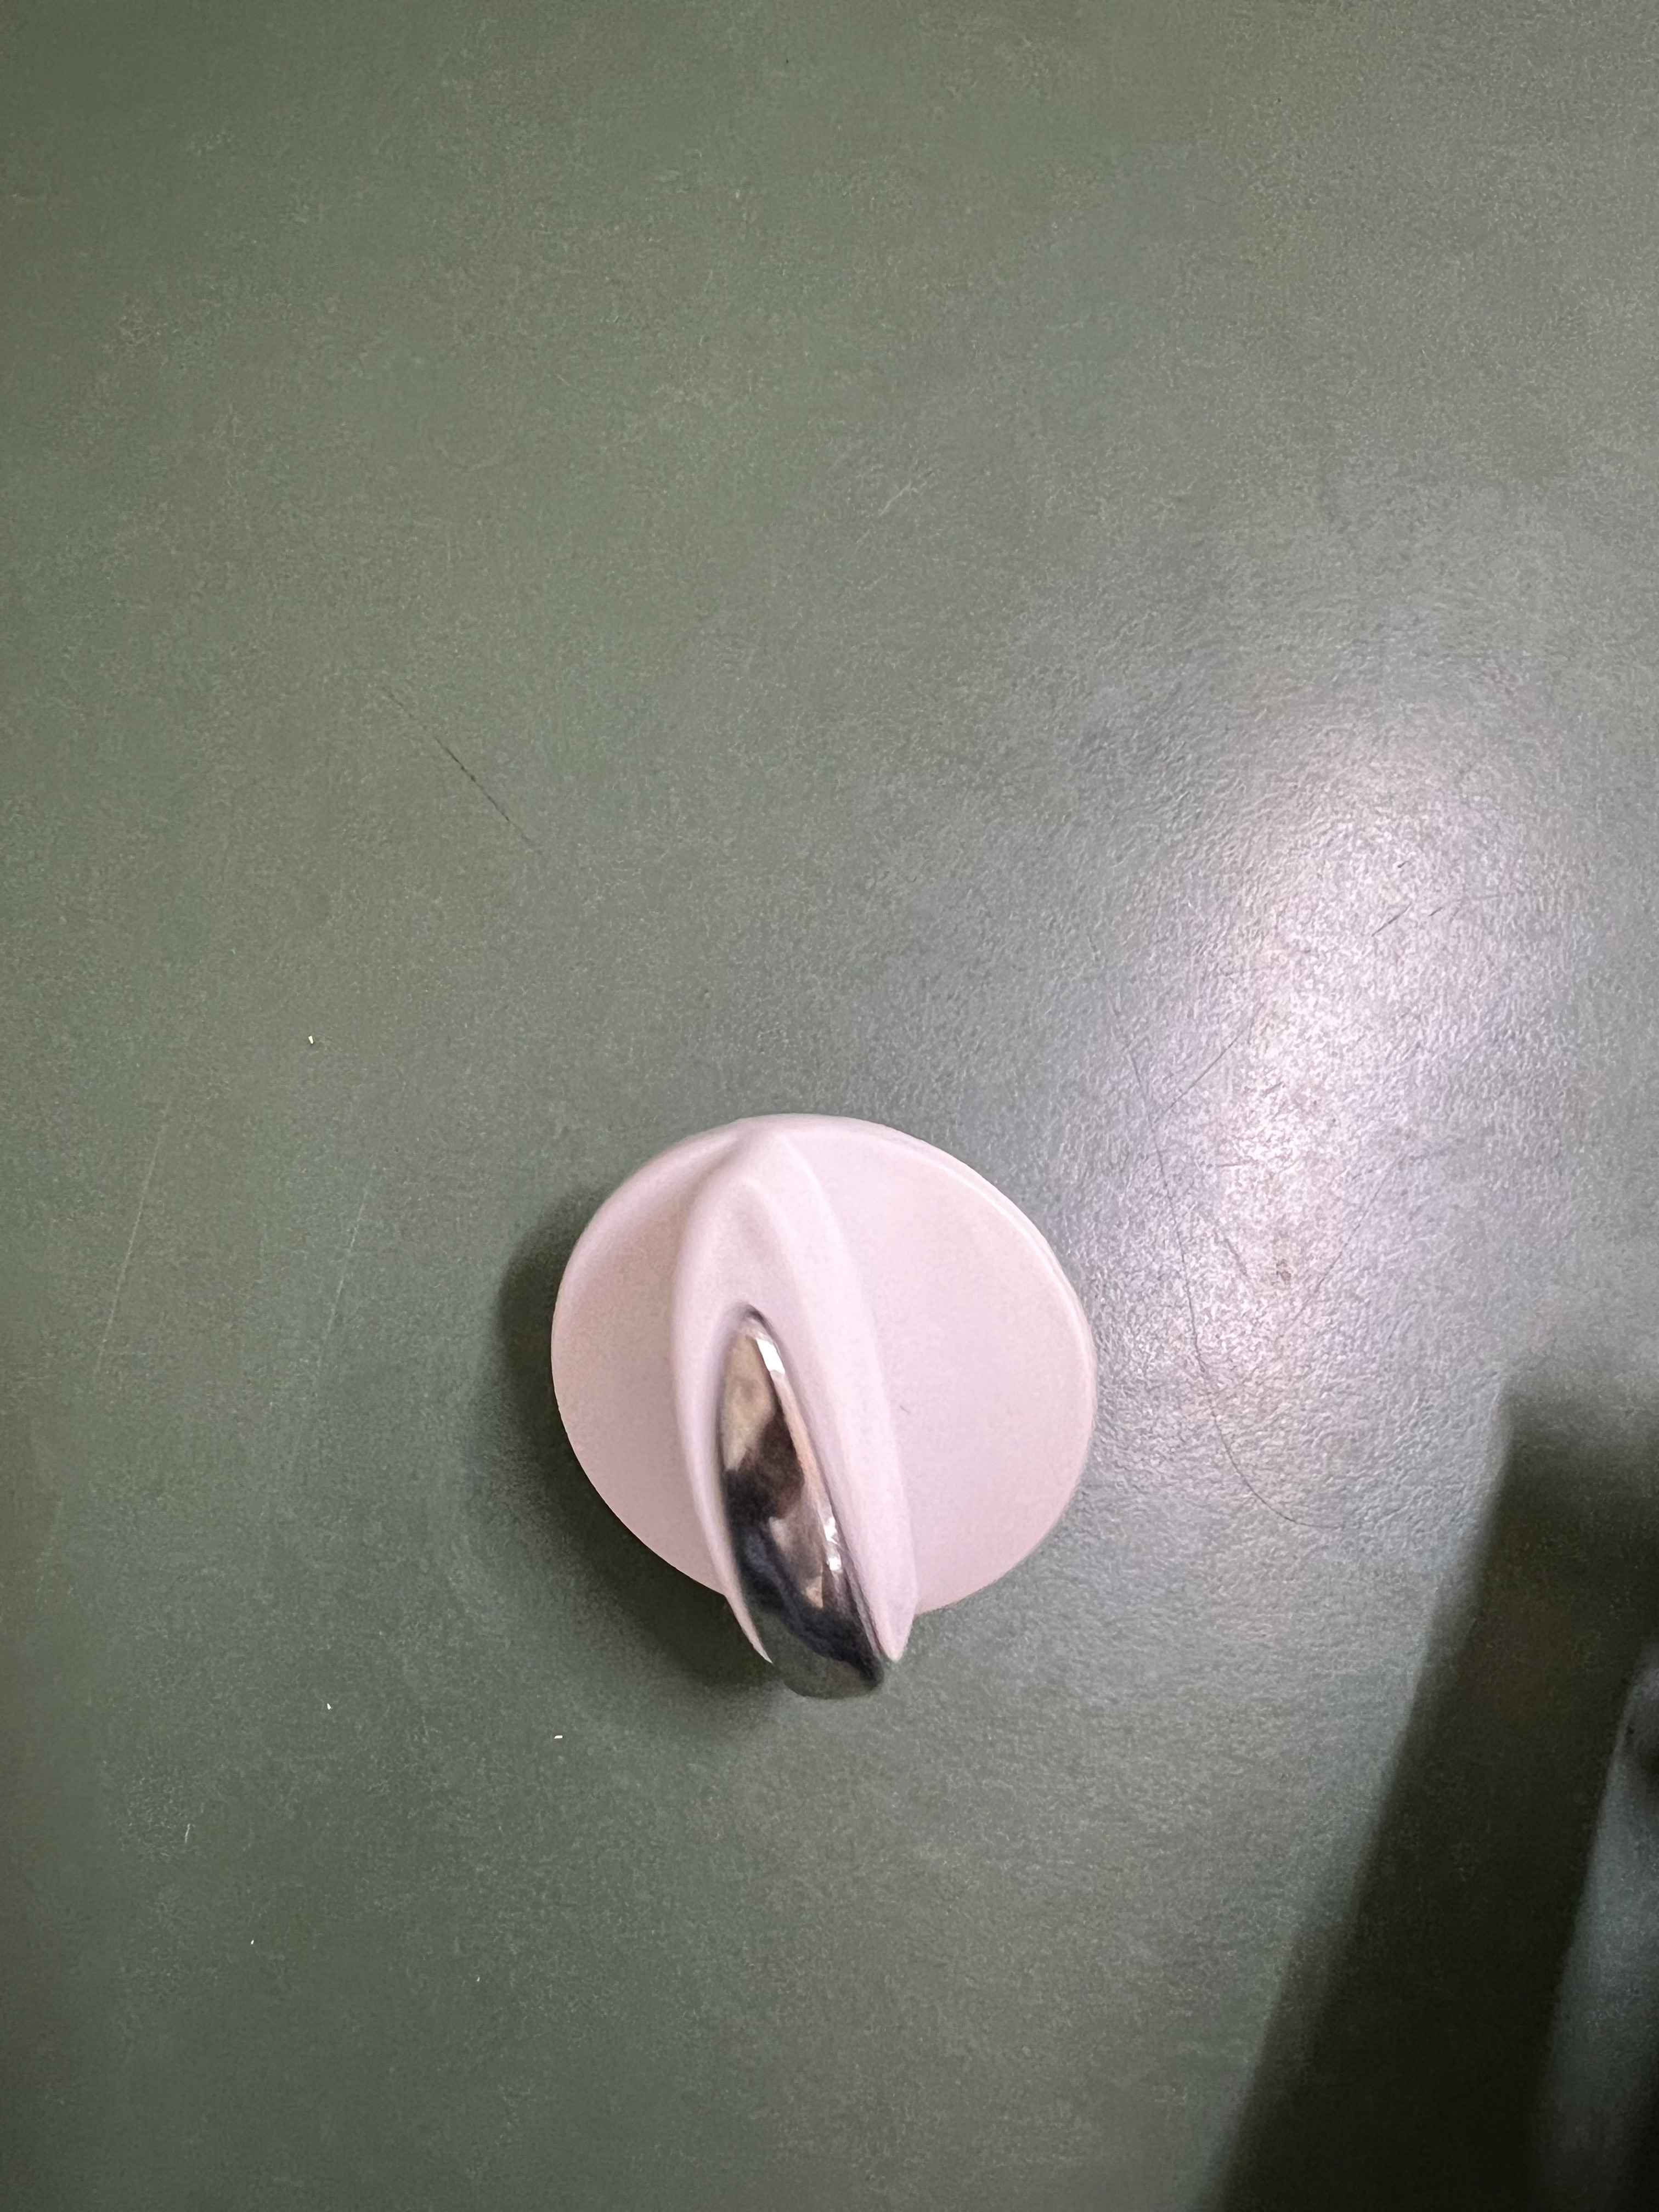regulator: (518, 1097, 1108, 1716)
